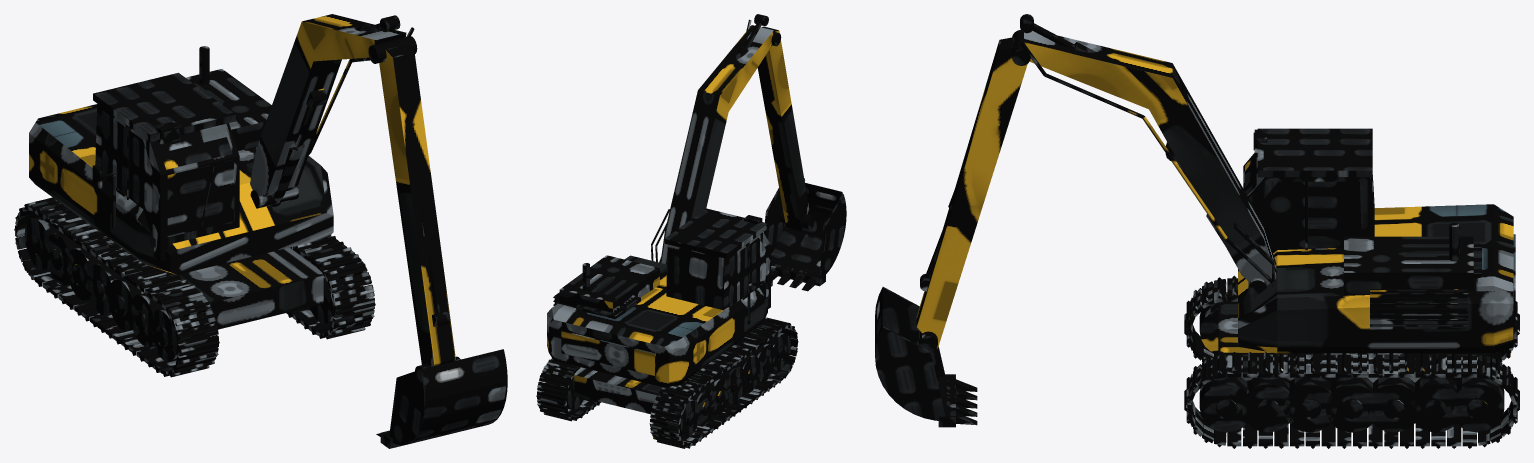
Rendered from excavator.obj.
The picture shows the model from 3 angles, left to right: view 1: azimuth 30°, elevation 25°; view 2: azimuth 150°, elevation 25°; view 3: azimuth 270°, elevation 25°; orthographic projection. The views are drawn at different scales.
Visible parts, largest first — view 1: excavator; view 2: excavator; view 3: excavator.
Boxes of the visible parts, x1,y1,x2,y2 form: excavator: [14, 14, 507, 448]; excavator: [536, 14, 846, 448]; excavator: [875, 14, 1519, 448].
Size of the model in its own units: 3.23 by 5.61 by 8.19.
Materials: 1 (1 with a texture image).
